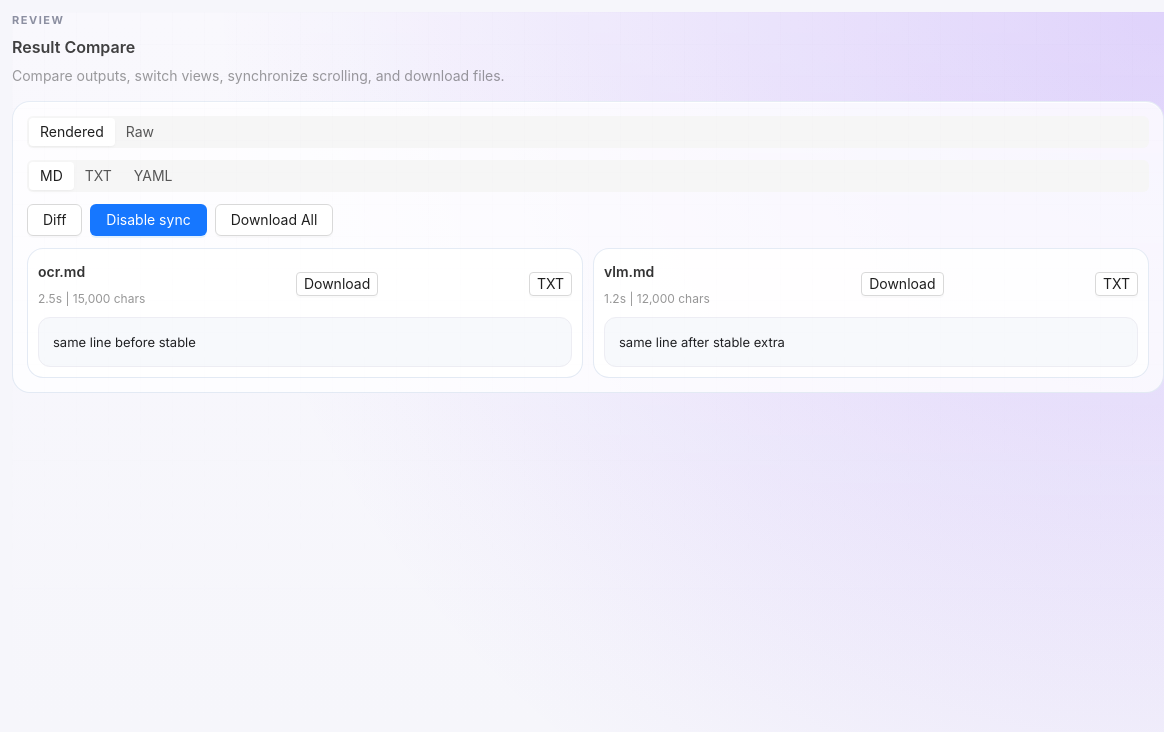
ComparePanel › does not render diff classes when diff mode is disabled
Click the button "Diff": (55, 220) [27,204,82,236]
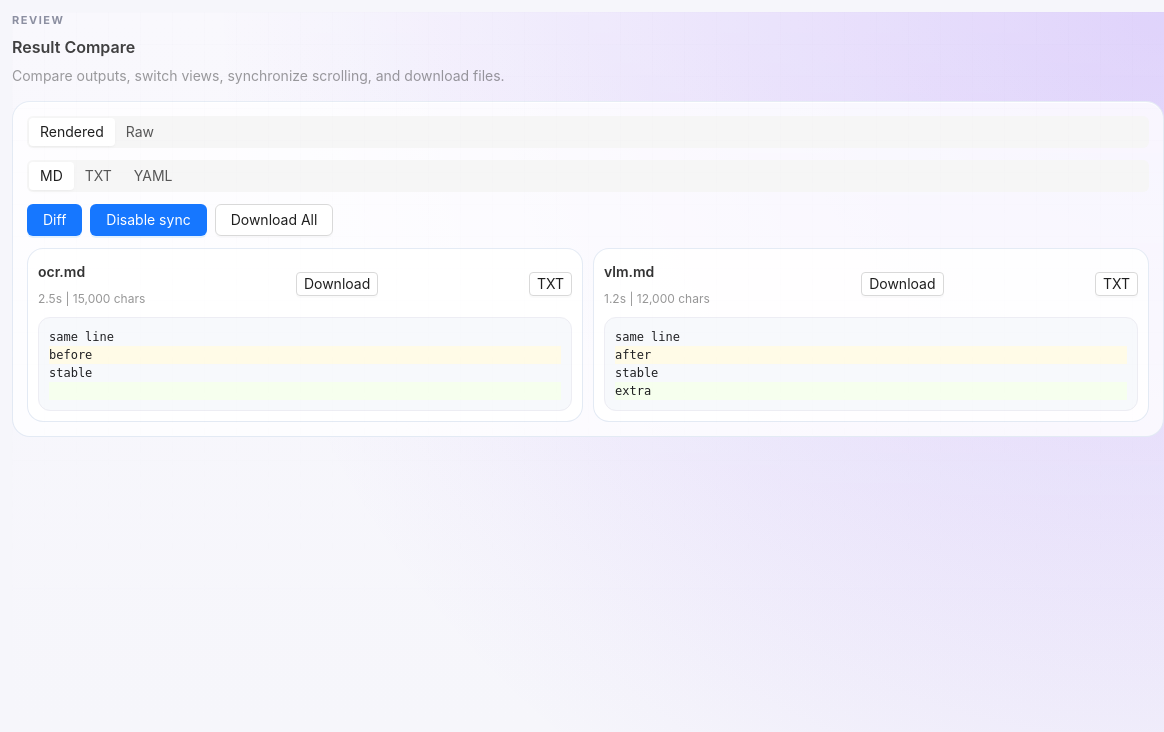
Expected: the text "before" is shown, [49,346,561,364]
Click the button "Diff": (55, 220) [27,204,82,236]
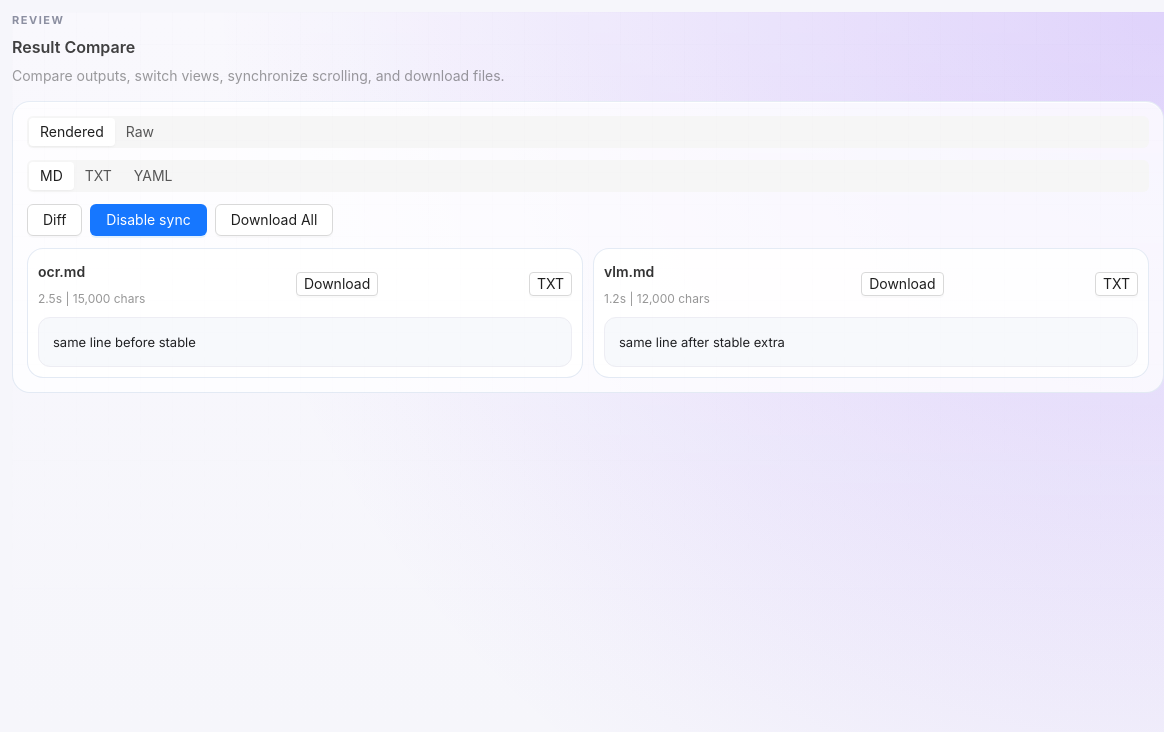
Expected: no elements with class "compare-line-modified" are shown
